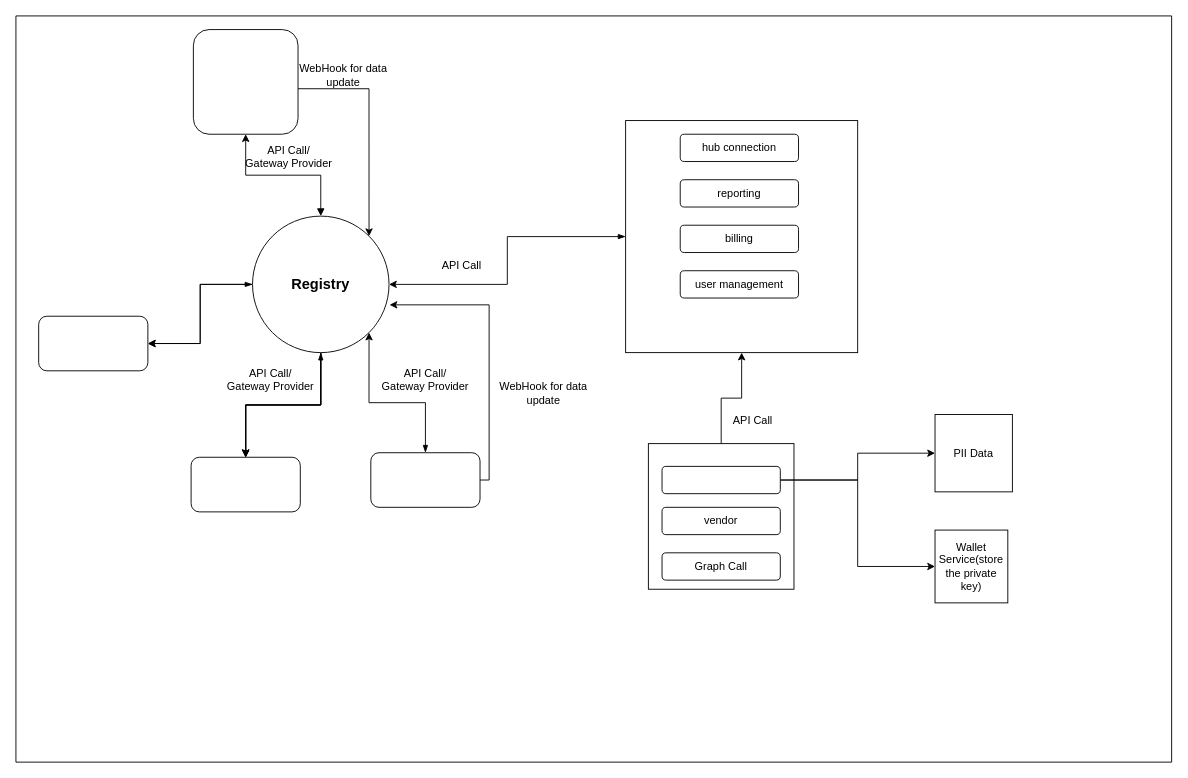
Some shapes in this 1188 by 778 pixel diagram are drawn without their labels. The centre of each missing label's shape, as x and y in pixels:
"beneficiary" goes at (x=720, y=479).
"IVR" goes at (x=93, y=343).
"SMS service" goes at (x=245, y=81).
"Token distribution" goes at (x=425, y=479).
"Vendor OTP -?" goes at (x=245, y=484).
